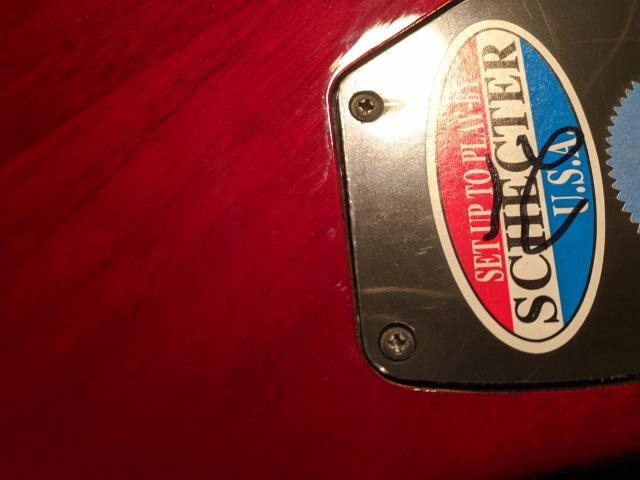CRS: (376, 322, 416, 361), (350, 91, 385, 122)
